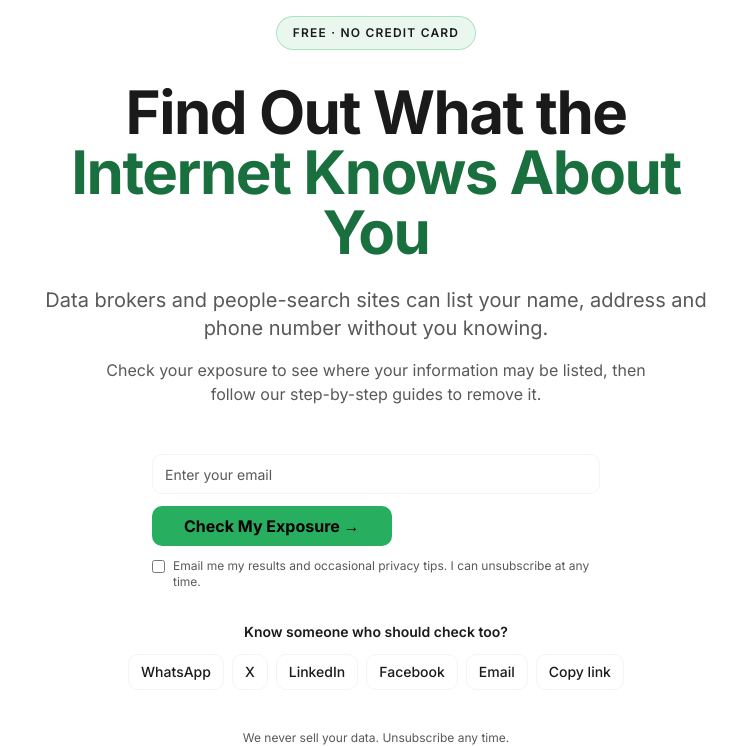
Test case: Scan page: bad addresses (MPC-8453) › fixing the typo sends straight away with no hint
The width and height of the screenshot is (753, 746).
Type "jane@gmial.com" into the field named "Email address" at coordinates (376, 474), box x1=152 y1=454 x2=600 y2=494
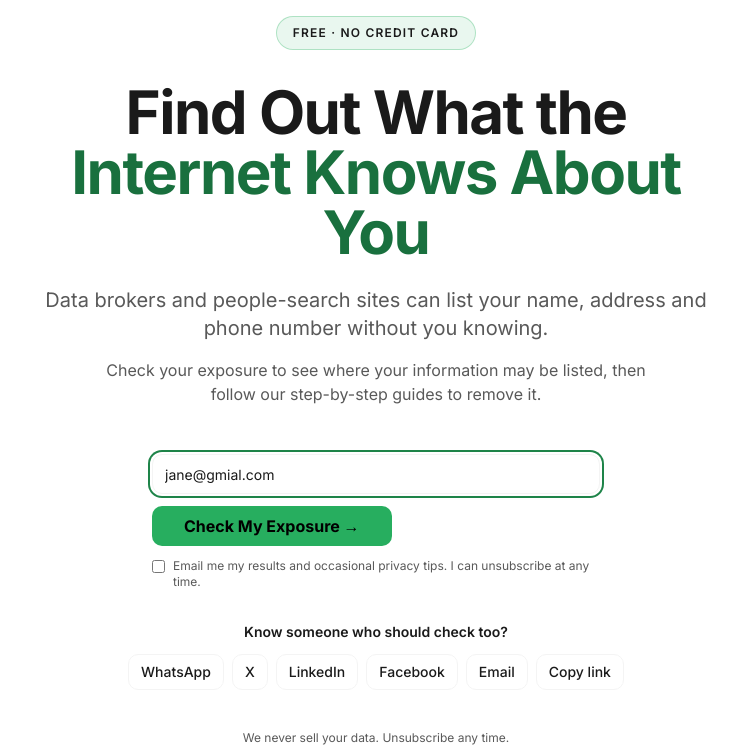
Click the checkbox labelled "Email me my results and occasional privacy tips" at coordinates (158, 566), box x1=152 y1=560 x2=165 y2=573
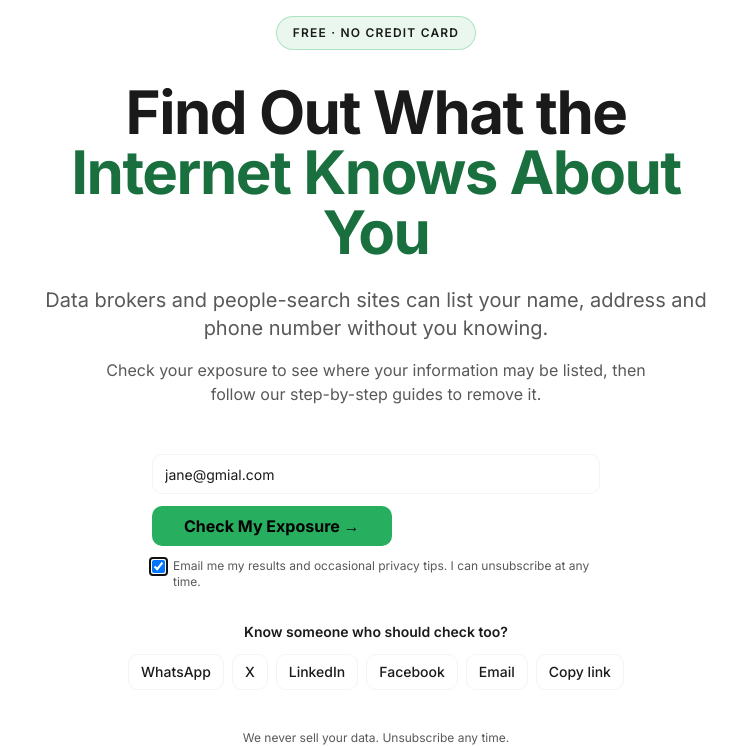
Click the button "Check My Exposure →" at coordinates (272, 526), box x1=152 y1=506 x2=392 y2=546
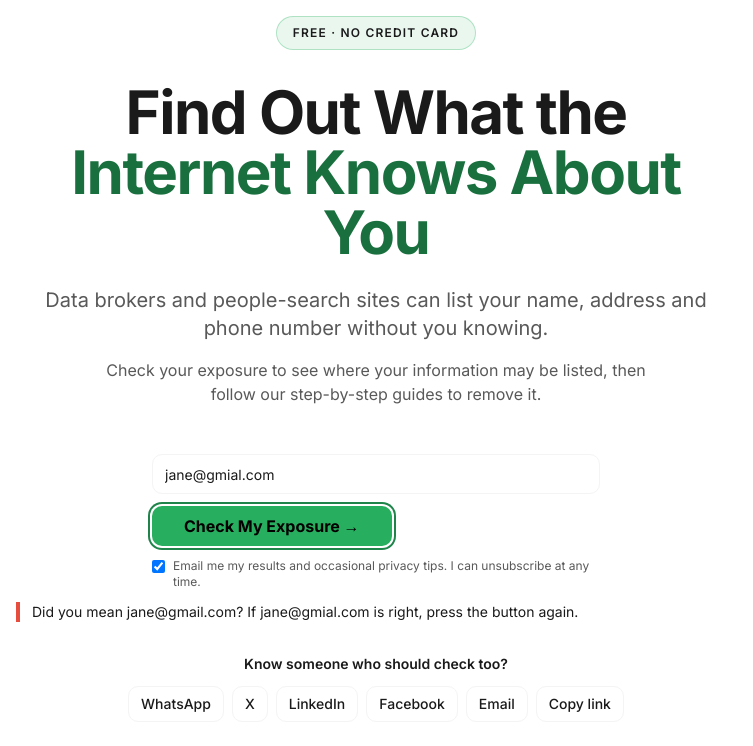
Expected: the message is shown, x1=16 y1=602 x2=736 y2=622
Replace the text in the field named "Email address" with "jane@gmail.com" at coordinates (376, 474), box x1=152 y1=454 x2=600 y2=494
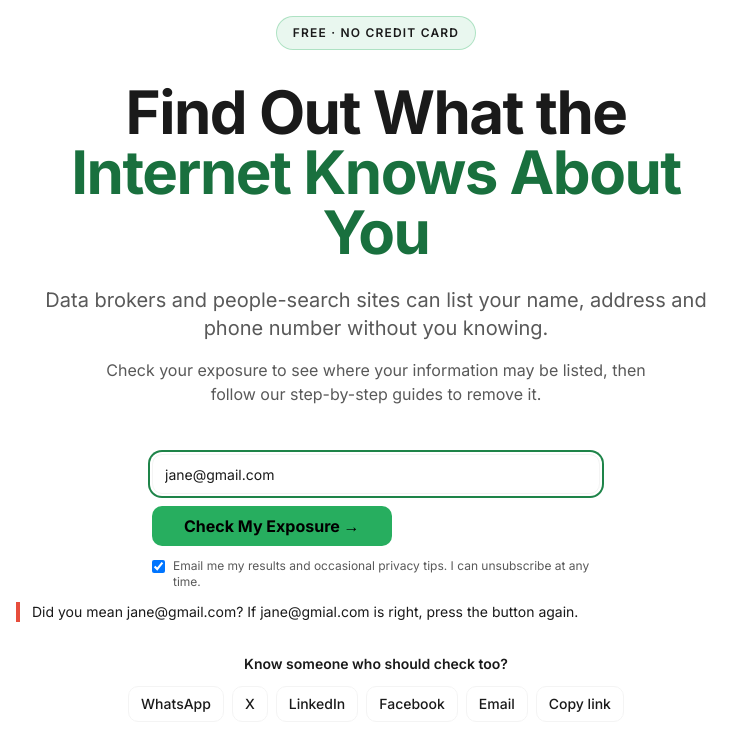
Click the button "Check My Exposure →" at coordinates (272, 526), box x1=152 y1=506 x2=392 y2=546
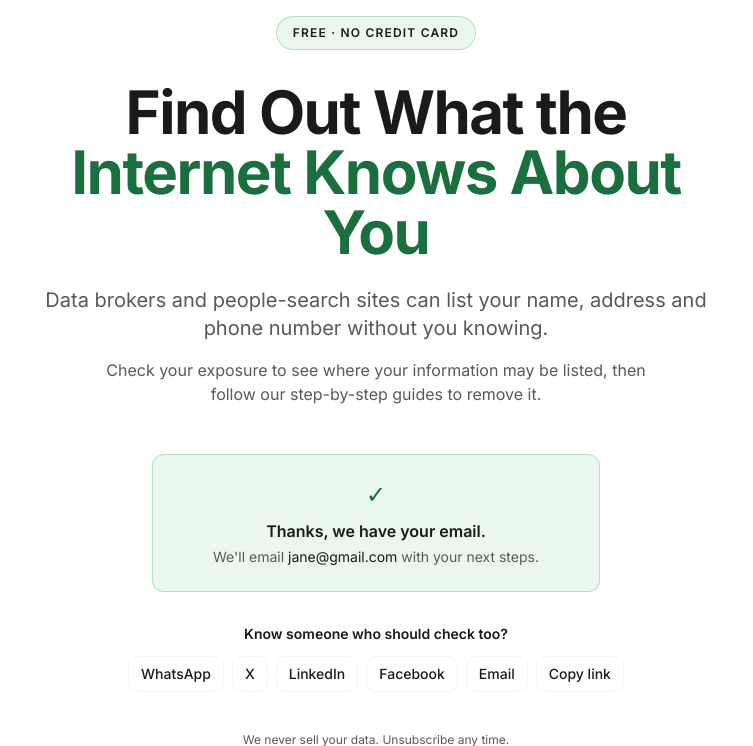
Expected: the message shows "we have your email", x1=266 y1=521 x2=486 y2=541
